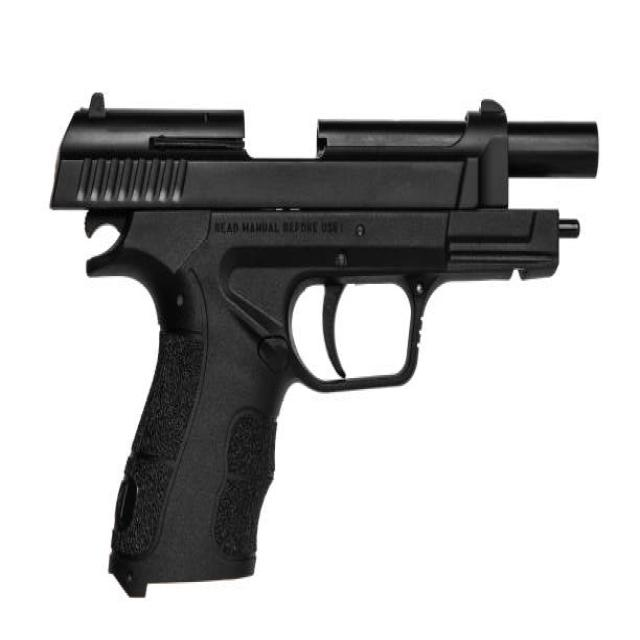pistol: (44, 86, 605, 603)
